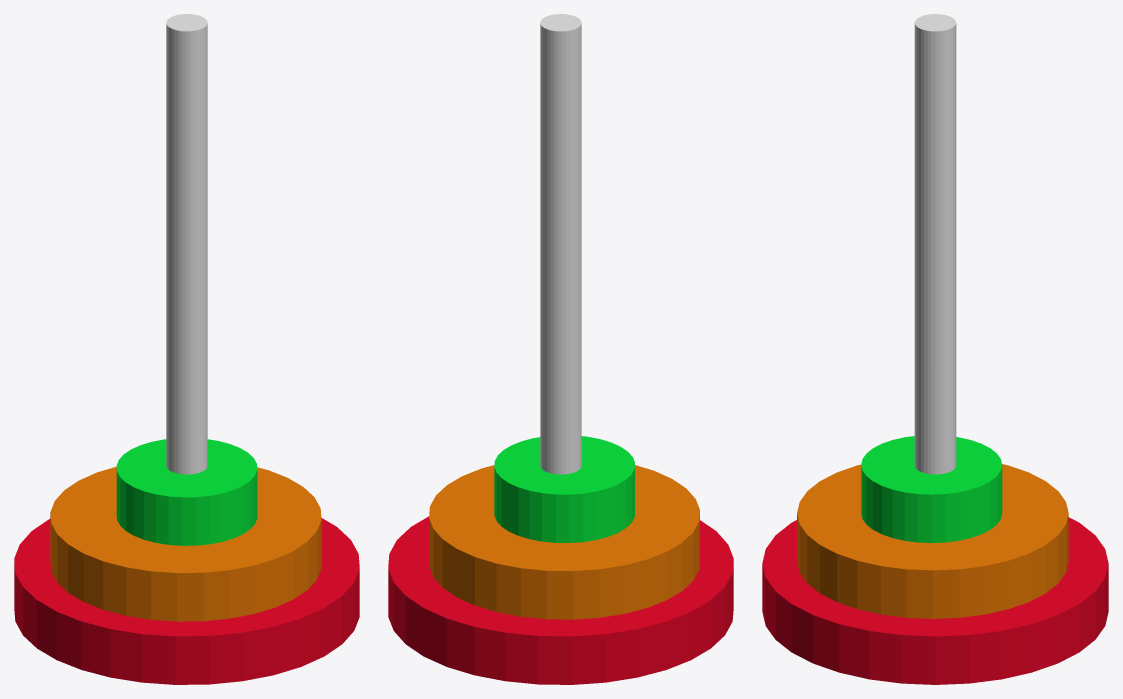
The model's file is Towers of Hanoi 3 ring top third fourth.fbx.
3 renders of one model, left to right at view 1: azimuth 30°, elevation 25°; view 2: azimuth 150°, elevation 25°; view 3: azimuth 270°, elevation 25°, orthographic.
Parts seen in each view (by area): view 1: Cylinder.002, Cylinder.001, Cylinder, Cylinder.004; view 2: Cylinder.001, Cylinder.002, Cylinder, Cylinder.004; view 3: Cylinder.001, Cylinder.002, Cylinder, Cylinder.004.
Part boxes in pixels (box(x1,y1,x2,y2)): Cylinder.002: box(50, 466, 321, 621); Cylinder.001: box(14, 518, 359, 684); Cylinder: box(166, 14, 207, 474); Cylinder.004: box(116, 439, 257, 545); Cylinder.001: box(388, 516, 733, 684); Cylinder.002: box(429, 465, 699, 619); Cylinder: box(540, 14, 581, 474); Cylinder.004: box(494, 436, 634, 542); Cylinder.001: box(762, 517, 1108, 684); Cylinder.002: box(797, 464, 1068, 618); Cylinder: box(914, 14, 956, 474); Cylinder.004: box(861, 436, 1002, 542).
Bounding box in the file's own units: 270 × 506 × 270.
